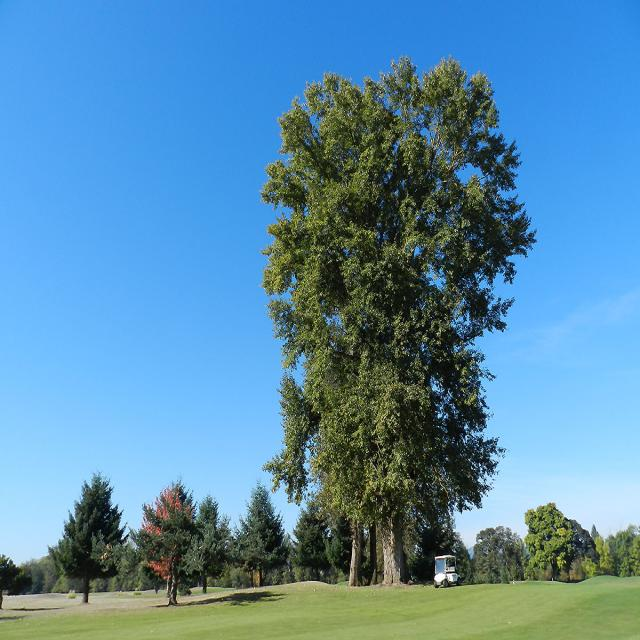Populus nigra: (261, 58, 536, 563)
